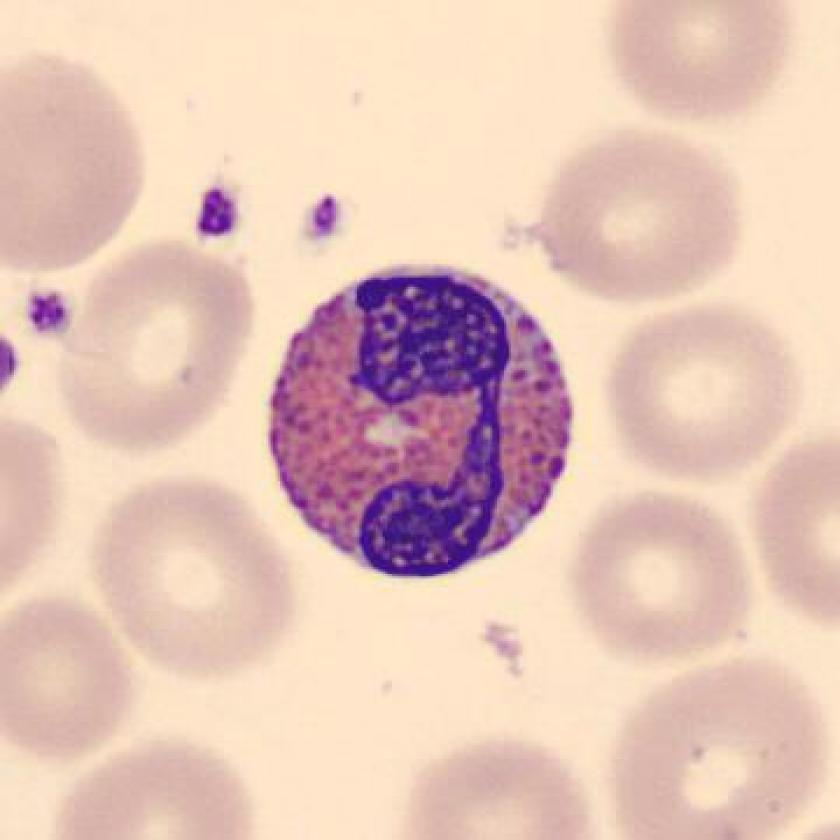eosinophil: (256, 253, 585, 591)
